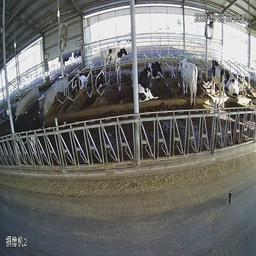cow: (173, 50, 199, 107), (99, 42, 130, 82), (207, 52, 226, 104), (140, 63, 158, 104), (150, 48, 166, 84), (227, 60, 242, 98)
